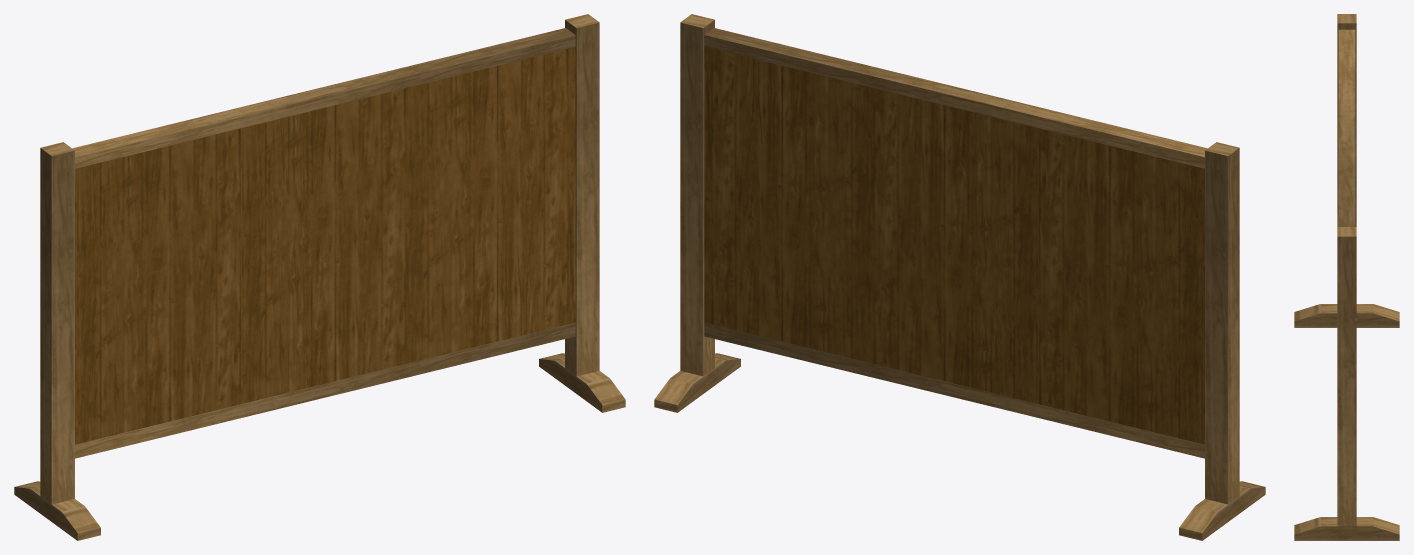
File: tableparti01.fbx
3 renders of one model, left to right at view 1: azimuth 30°, elevation 25°; view 2: azimuth 150°, elevation 25°; view 3: azimuth 270°, elevation 25°, orthographic. The views are drawn at different scales.
Parts seen in each view (by area): view 1: tableparti01; view 2: tableparti01; view 3: tableparti01.
Boxes of the visible parts, x1,y1,x2,y2 form: tableparti01: [14, 14, 625, 540]; tableparti01: [654, 14, 1265, 540]; tableparti01: [1294, 14, 1399, 540].
Bounding box in the file's own units: 151 × 96.08 × 30.12.
